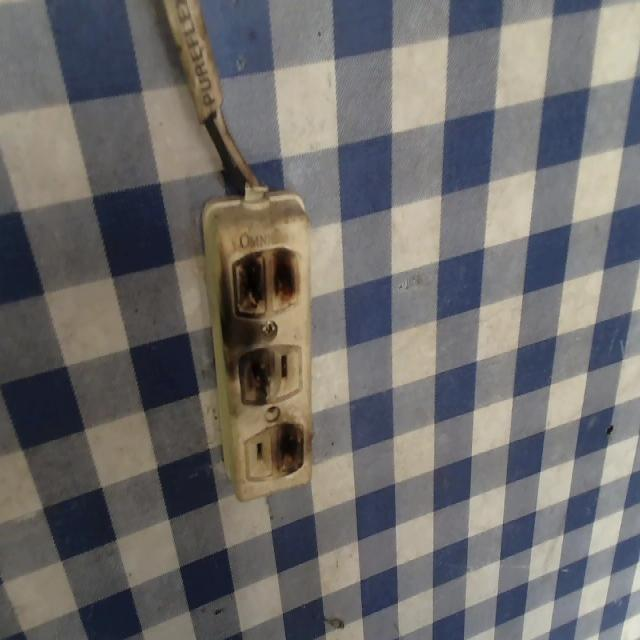-: (223, 242, 310, 322), (227, 337, 281, 408), (272, 415, 312, 481)
